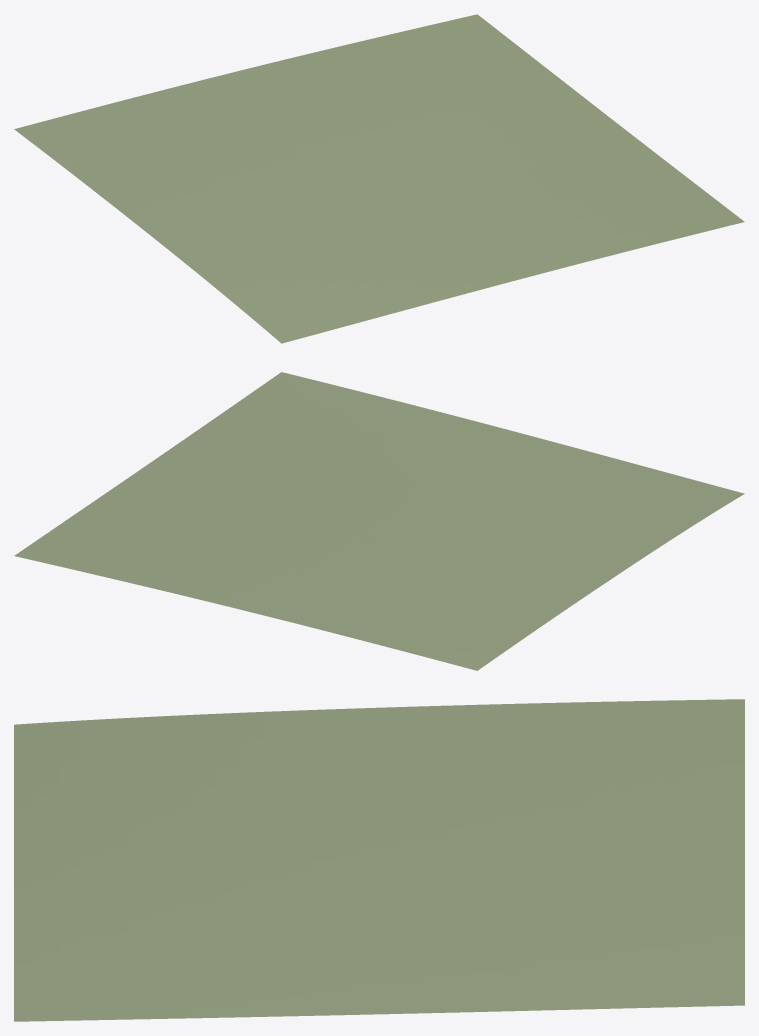
File: expanse-27-8.glb
3 renders of one model, top to bottom at view 1: azimuth 30°, elevation 25°; view 2: azimuth 150°, elevation 25°; view 3: azimuth 270°, elevation 25°, orthographic. The views are drawn at different scales.
Visible parts, largest first — view 1: expanse-27-8; view 2: expanse-27-8; view 3: expanse-27-8.
Part boxes in pixels (x1,y1,x2,y2): expanse-27-8: [14, 14, 744, 343]; expanse-27-8: [14, 372, 744, 670]; expanse-27-8: [14, 699, 744, 1021].
Bounding box in the file's own units: 256 × 11.68 × 256.
